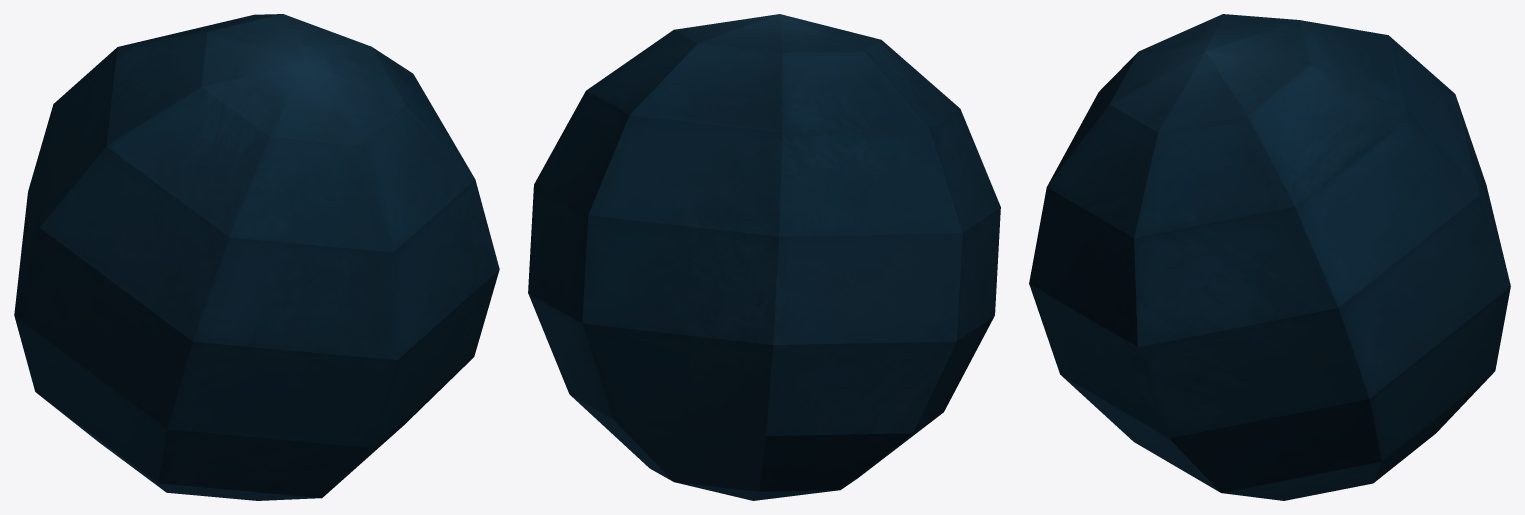
Rendered from Monolith4.fbx.
3 renders of one model, left to right at view 1: azimuth 30°, elevation 25°; view 2: azimuth 150°, elevation 25°; view 3: azimuth 270°, elevation 25°, orthographic. The views are drawn at different scales.
Parts seen in each view (by area): view 1: polySurface6; view 2: polySurface6; view 3: polySurface6.
Part boxes in pixels (left/top/right/bottom): polySurface6: left=14, top=14, right=499, bottom=500; polySurface6: left=528, top=14, right=1000, bottom=500; polySurface6: left=1029, top=14, right=1510, bottom=500.
Bounding box in the file's own units: 5.9 × 6.03 × 5.93.
